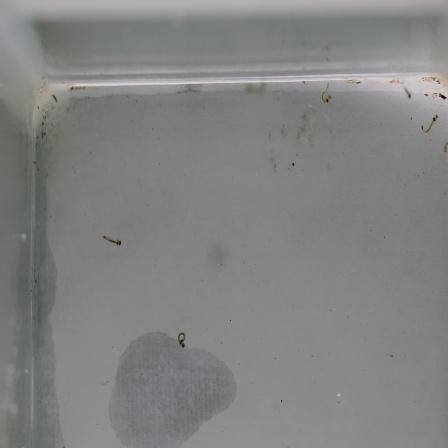Jentik-Nyamuk: (96, 229, 127, 252), (416, 108, 441, 135), (170, 327, 195, 354), (316, 83, 339, 107)
